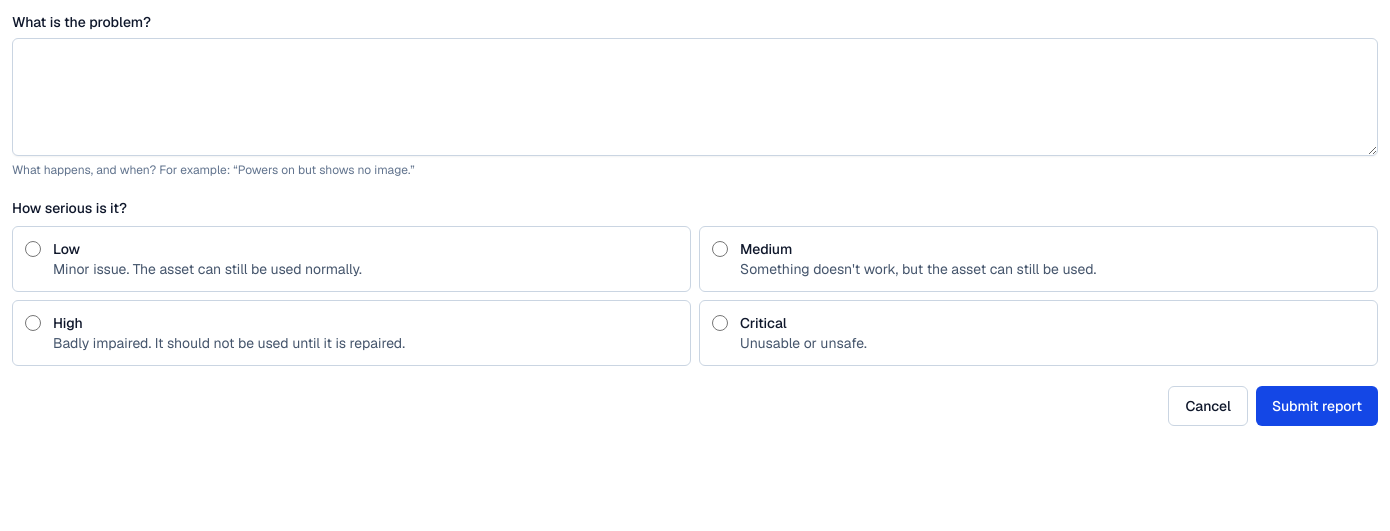
Scenario: ReportProblemForm › explains_that_an_assigned_asset_stays_with_its_user
Click the radio button labelled "High".
click(33, 323)  # box [25, 315, 41, 331]
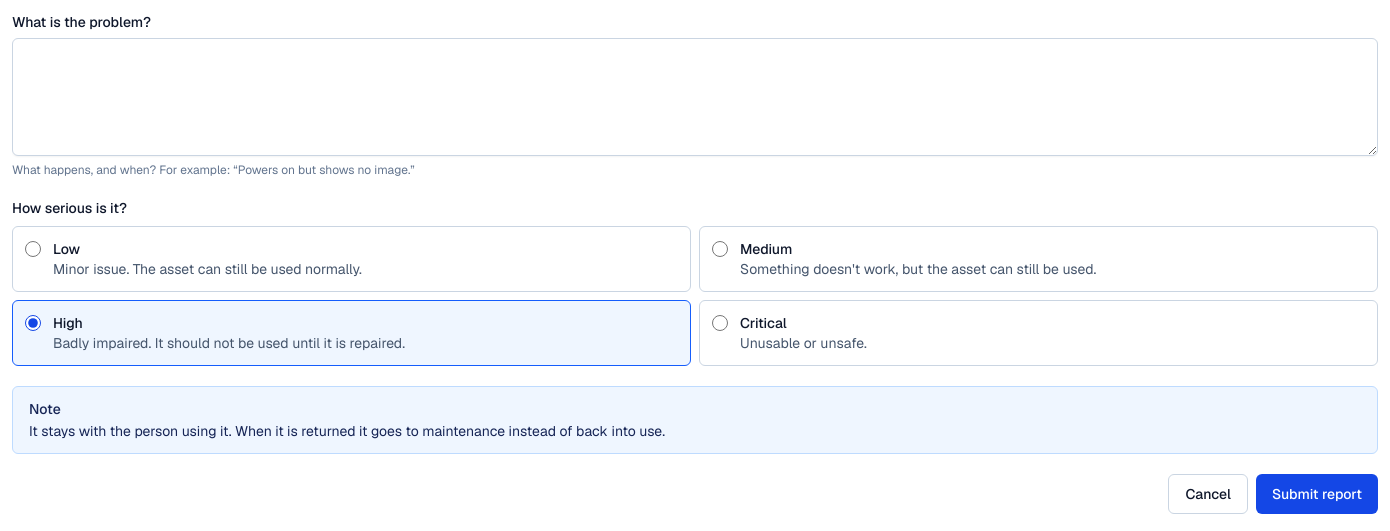
Check: the text "stays with the person" is shown, box [29, 422, 665, 440]
